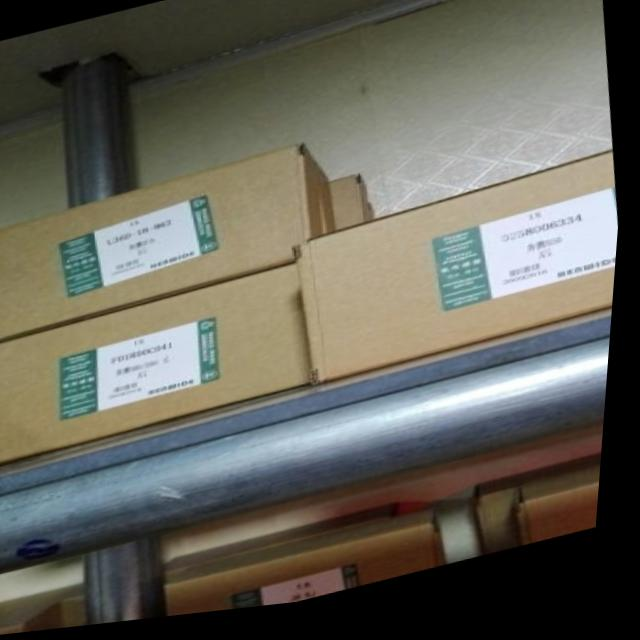box: (296, 165, 623, 394), (0, 149, 341, 343), (0, 269, 317, 468), (174, 520, 458, 621), (479, 467, 610, 568), (524, 481, 609, 559), (2, 586, 95, 636), (331, 182, 371, 238)
